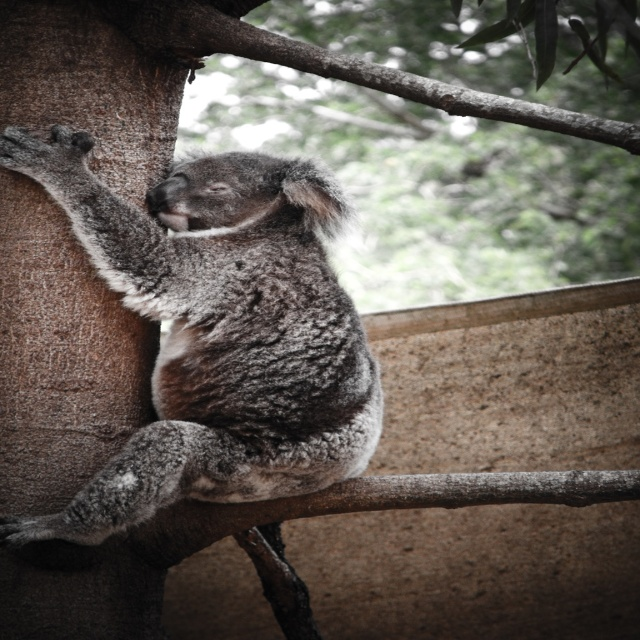Koala: (0, 127, 387, 548)
